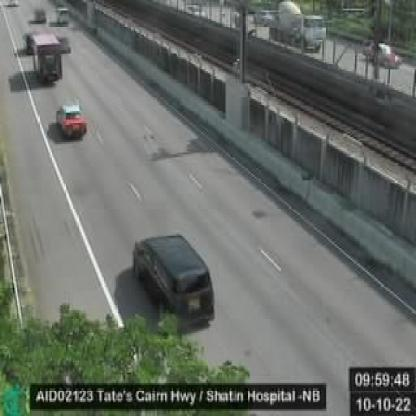Car: (135, 232, 215, 326), (59, 100, 88, 138)
Truck: (25, 30, 63, 84)
